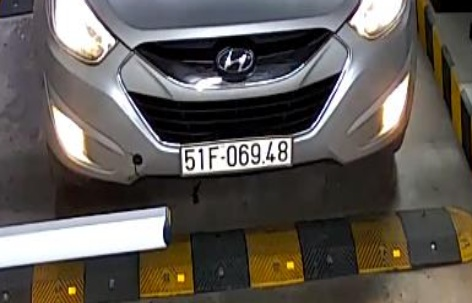plate: (181, 133, 293, 180)
